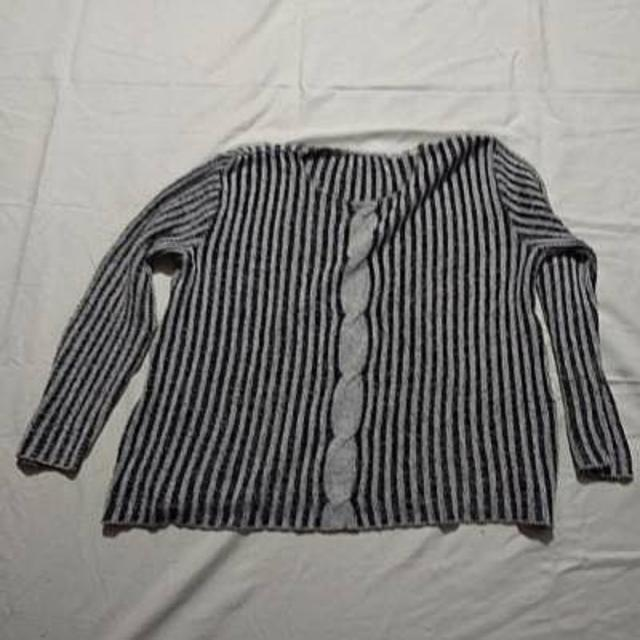SHIRT: (14, 130, 640, 548)
